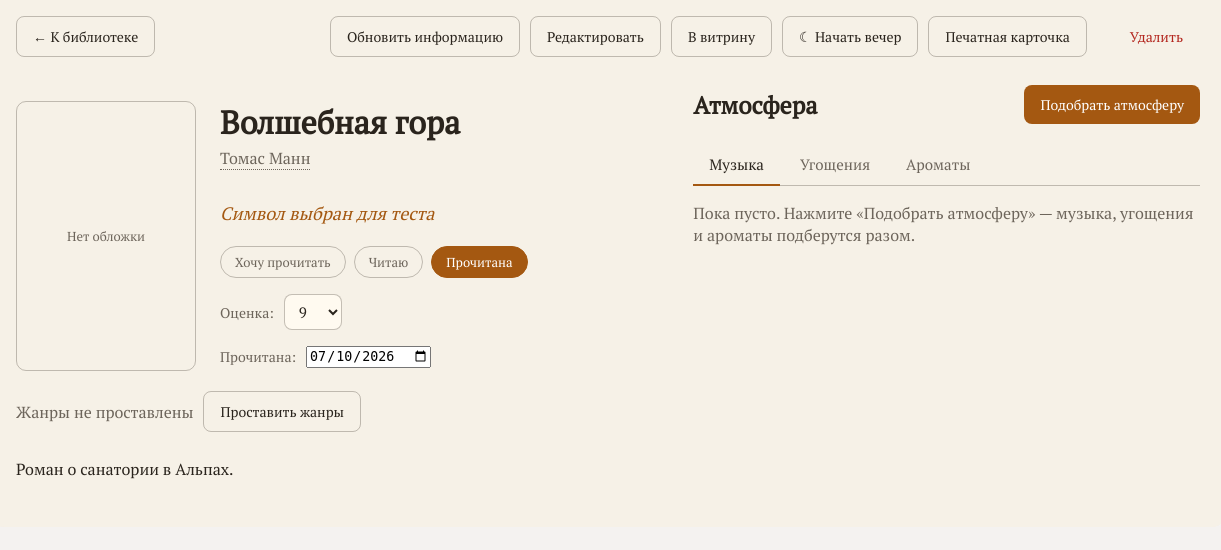
Test case: крестик у трека удаляет его из подборки (admin)
Check: the heading "Волшебная гора" is shown, box [220,101,460,143]
Click the button "Подобрать атмосферу": (1112, 104) [1024,85,1200,124]
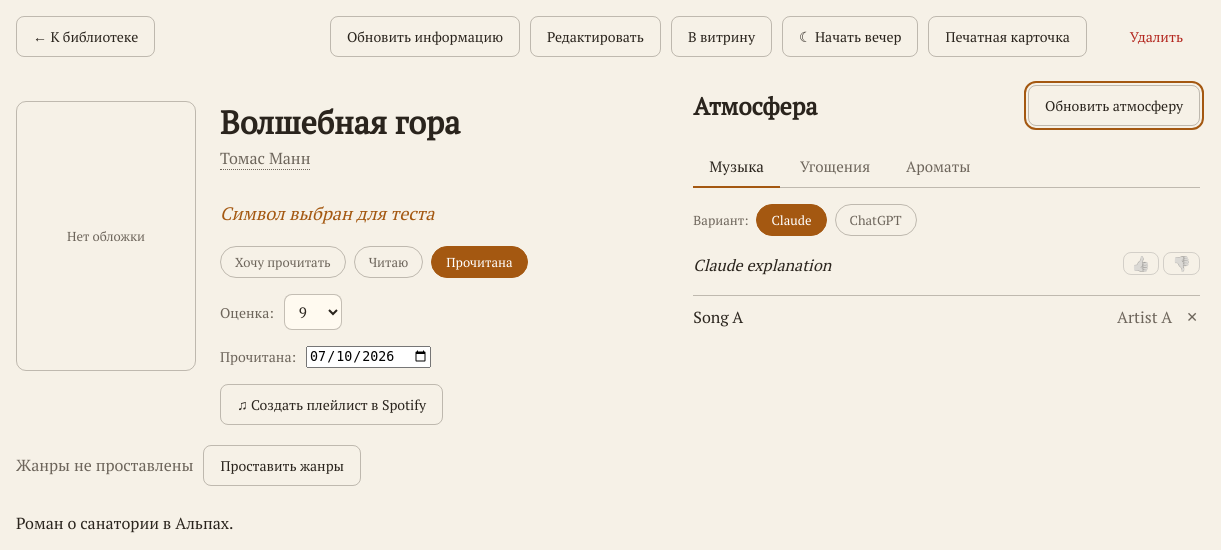
Check: the text "Song A" is shown, box [693,306,743,328]
Click the button named "Удалить трек Song A": (1192, 317) [1184,306,1200,328]
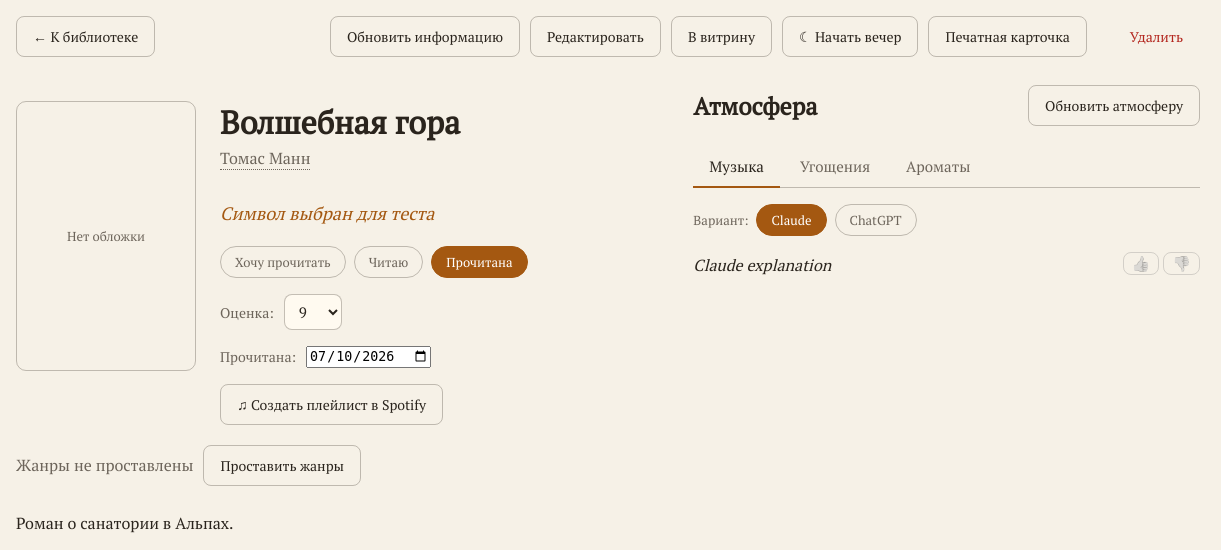
Check: the text "Song A" is gone
